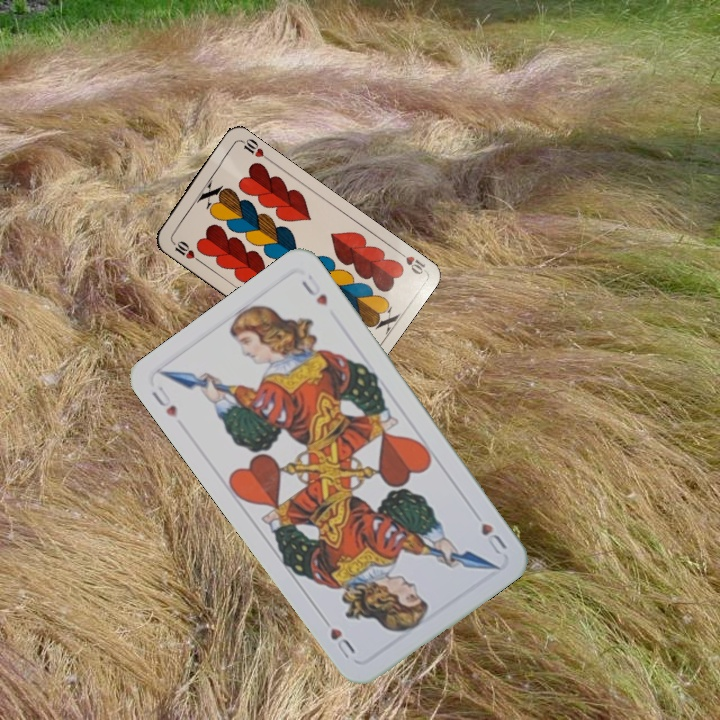H10: (392, 246, 428, 277), (167, 236, 203, 265)
HU: (147, 381, 180, 420), (477, 519, 510, 557)
